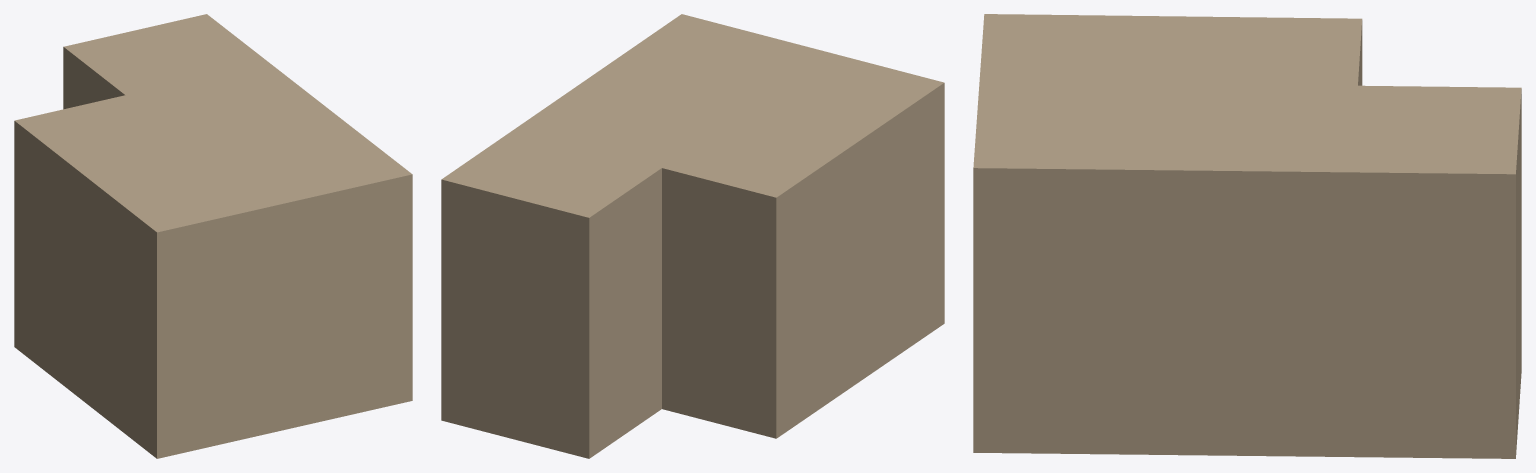
Rendered from bld_99739269.dae.
The picture shows the model from 3 angles, left to right: view 1: azimuth 30°, elevation 25°; view 2: azimuth 150°, elevation 25°; view 3: azimuth 270°, elevation 25°; orthographic projection. The views are drawn at different scales.
Visible parts, largest first — view 1: bld_99739269; view 2: bld_99739269; view 3: bld_99739269.
Part boxes in pixels (x1,y1,x2,y2): bld_99739269: [14, 14, 412, 458]; bld_99739269: [441, 14, 944, 458]; bld_99739269: [973, 14, 1521, 458].
Size of the model in its own units: 9.66 by 13.96 by 8.
